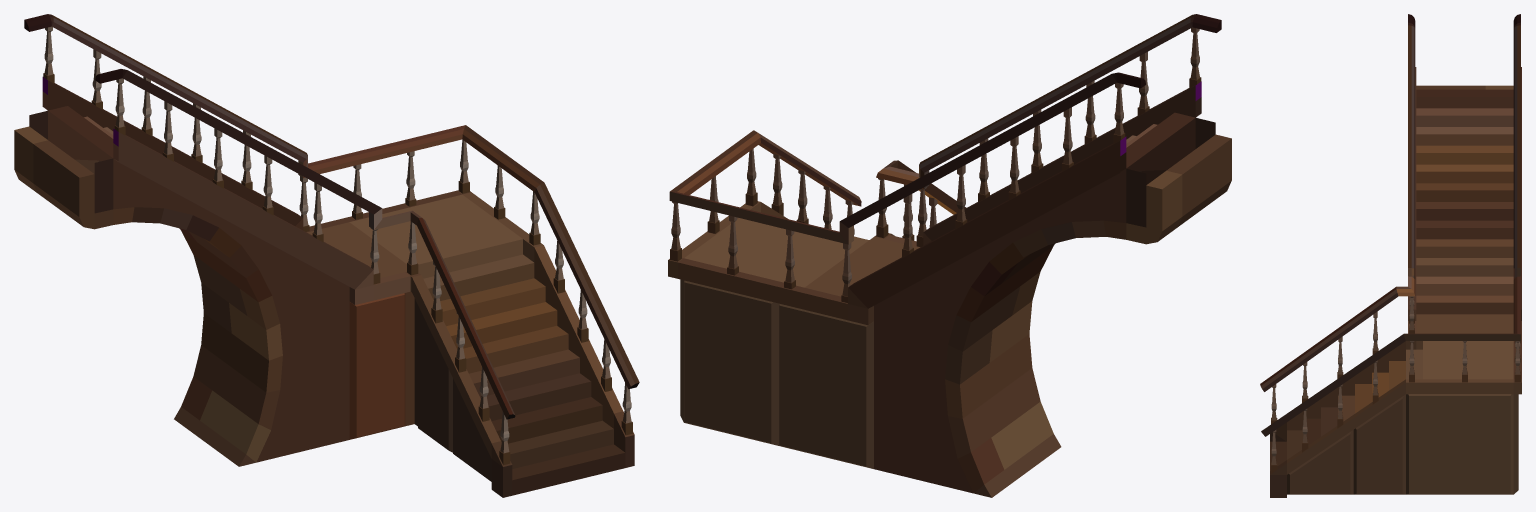
The model's file is HomeA_StairsL.fbx.
3 renders of one model, left to right at view 1: azimuth 30°, elevation 25°; view 2: azimuth 150°, elevation 25°; view 3: azimuth 270°, elevation 25°, orthographic. The views are drawn at different scales.
Parts seen in each view (by area): view 1: HomeA_StairsL; view 2: HomeA_StairsL; view 3: HomeA_StairsL.
Boxes of the visible parts, left/top/right/bottom form: HomeA_StairsL: left=14, top=14, right=639, bottom=497; HomeA_StairsL: left=668, top=14, right=1231, bottom=497; HomeA_StairsL: left=1260, top=14, right=1521, bottom=497.
Size of the model in its own units: 608 by 547 by 403.
